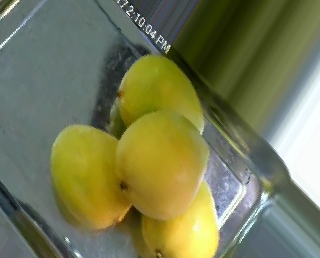Mango: (114, 111, 214, 226), (41, 126, 138, 232), (113, 57, 209, 139), (136, 175, 225, 258)
